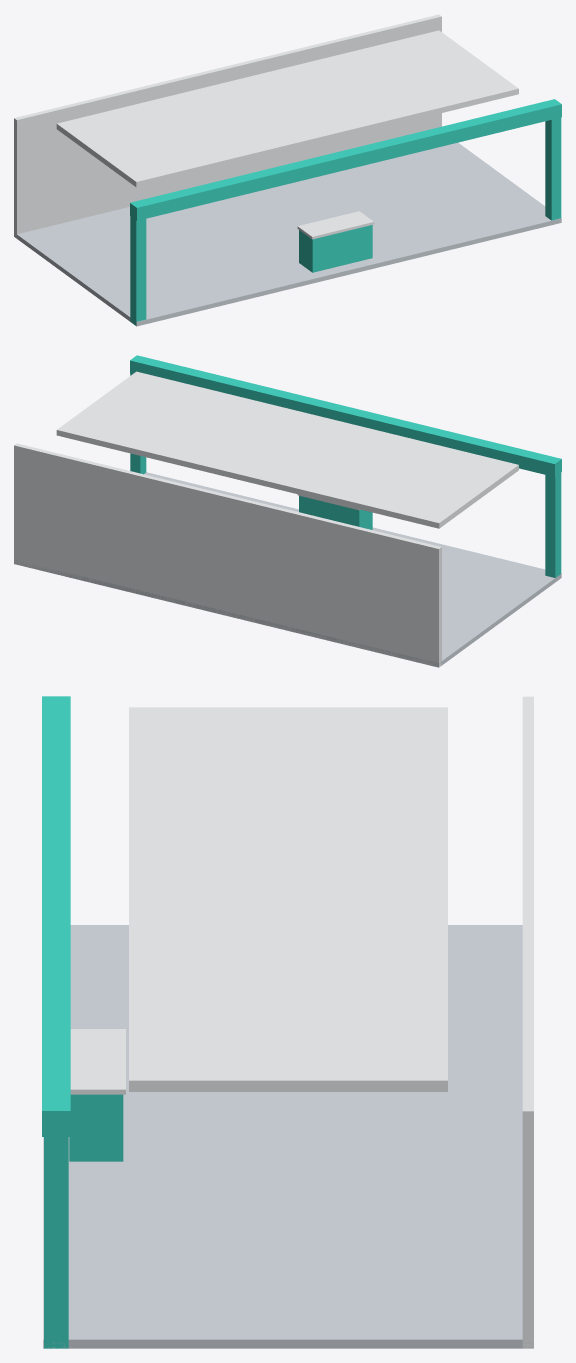
3 renders of one model, top to bottom at view 1: azimuth 30°, elevation 25°; view 2: azimuth 150°, elevation 25°; view 3: azimuth 270°, elevation 25°, orthographic. The views are drawn at different scales.
Visible parts, largest first — view 1: Exhibition Booth Concept; view 2: Exhibition Booth Concept; view 3: Exhibition Booth Concept.
Part boxes in pixels (box(x1,y1,x2,y2)): Exhibition Booth Concept: box(14, 14, 561, 326); Exhibition Booth Concept: box(14, 355, 561, 667); Exhibition Booth Concept: box(42, 696, 533, 1348).
Size of the model in its own units: 12 by 3.34 by 6.02.
